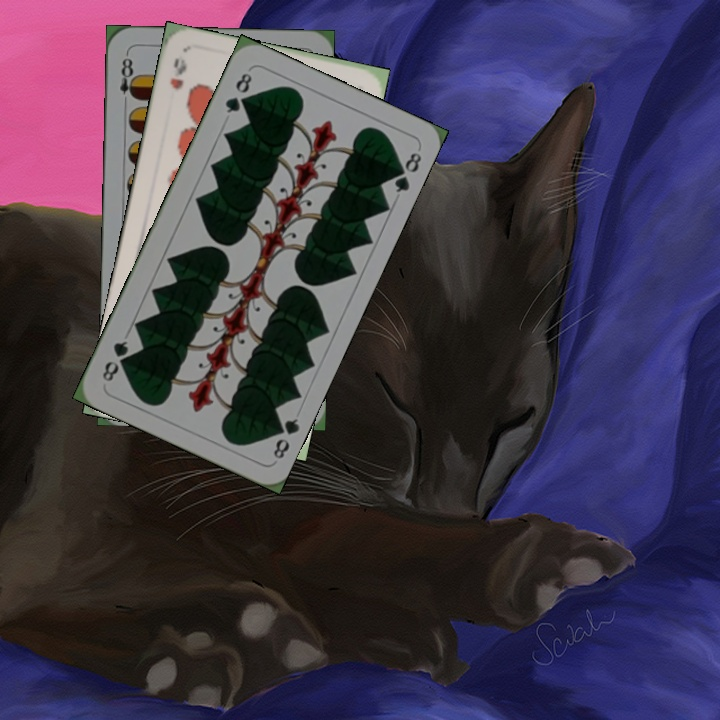E8: (116, 50, 139, 109)
G8: (267, 414, 302, 462), (221, 68, 255, 116)
H9: (165, 54, 189, 92)
